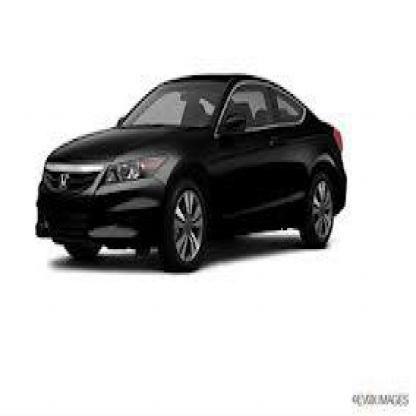Vehicle: (37, 78, 350, 270)
